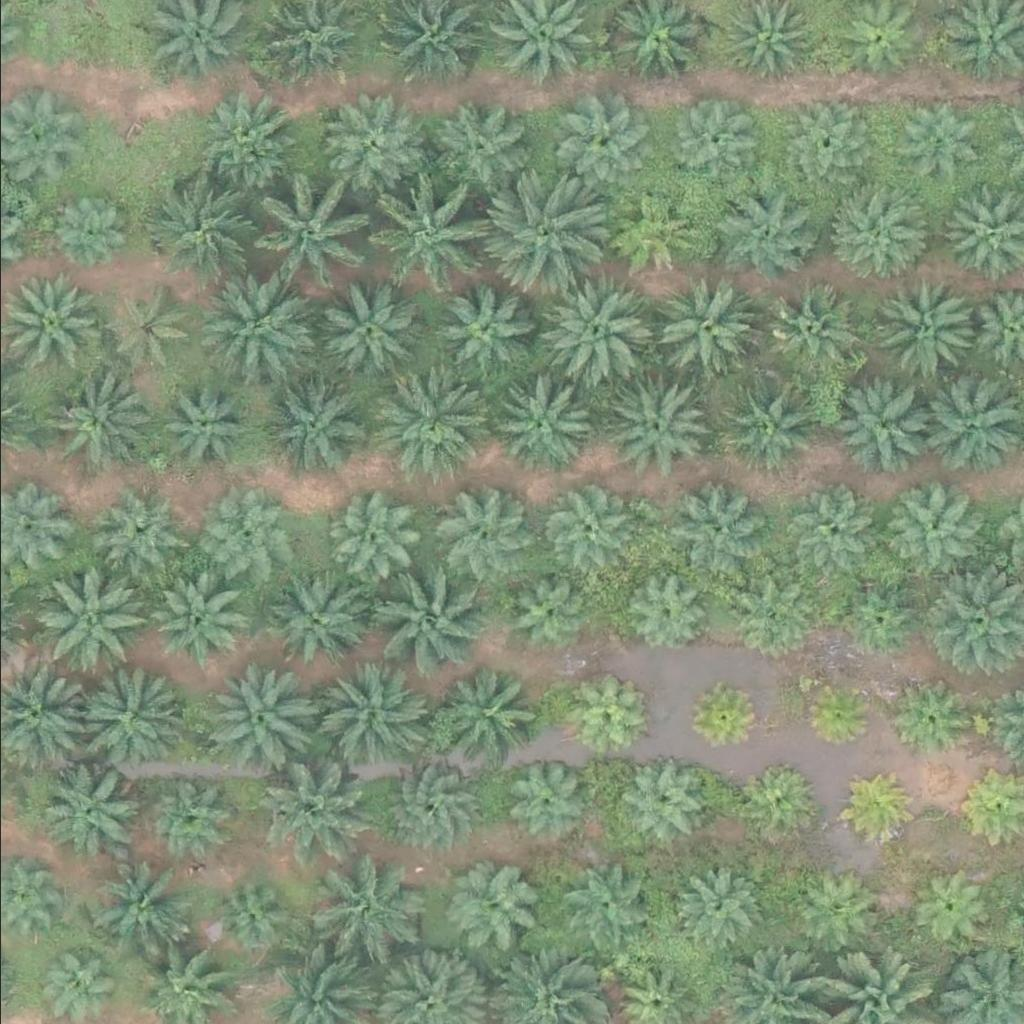Kelapa_Sawit: (205, 656, 319, 769), (75, 653, 188, 766), (476, 365, 589, 478), (367, 366, 480, 479), (310, 276, 423, 389), (484, 175, 597, 288), (309, 659, 423, 771), (32, 561, 146, 673), (265, 753, 378, 865), (371, 557, 484, 669), (532, 277, 645, 389), (194, 274, 307, 386), (359, 177, 472, 289), (241, 177, 354, 289), (143, 172, 256, 284), (82, 850, 183, 950), (310, 850, 411, 950), (34, 760, 135, 860), (434, 663, 535, 763), (266, 566, 367, 666), (429, 487, 530, 587), (609, 376, 710, 476), (36, 370, 137, 470), (429, 283, 530, 383), (319, 100, 420, 200), (200, 87, 301, 187), (917, 372, 1018, 472), (834, 377, 935, 477), (661, 277, 762, 377), (717, 376, 818, 476), (665, 483, 766, 583), (869, 279, 970, 379), (832, 183, 933, 283), (445, 857, 545, 957), (377, 755, 477, 855), (427, 104, 527, 204), (715, 184, 815, 284), (261, 377, 362, 476), (670, 92, 759, 180), (206, 871, 294, 959), (615, 752, 703, 840), (146, 578, 234, 666), (543, 478, 631, 566), (835, 574, 923, 662), (717, 574, 805, 662), (907, 860, 995, 948), (784, 865, 872, 953), (879, 484, 967, 572), (787, 485, 875, 573), (886, 95, 974, 183), (782, 99, 870, 187), (719, 1, 807, 89), (557, 857, 646, 944), (102, 289, 191, 376), (499, 754, 587, 841), (137, 776, 225, 863), (619, 570, 707, 657), (495, 567, 583, 654), (100, 481, 188, 568), (212, 490, 300, 577), (327, 493, 415, 580), (161, 384, 249, 471), (40, 188, 128, 275), (566, 99, 654, 186), (675, 864, 763, 951), (765, 282, 853, 369), (605, 190, 693, 277), (741, 759, 817, 834), (32, 942, 108, 1017), (561, 676, 637, 751), (688, 681, 764, 756), (837, 774, 913, 849), (896, 684, 971, 759), (799, 676, 874, 751)
